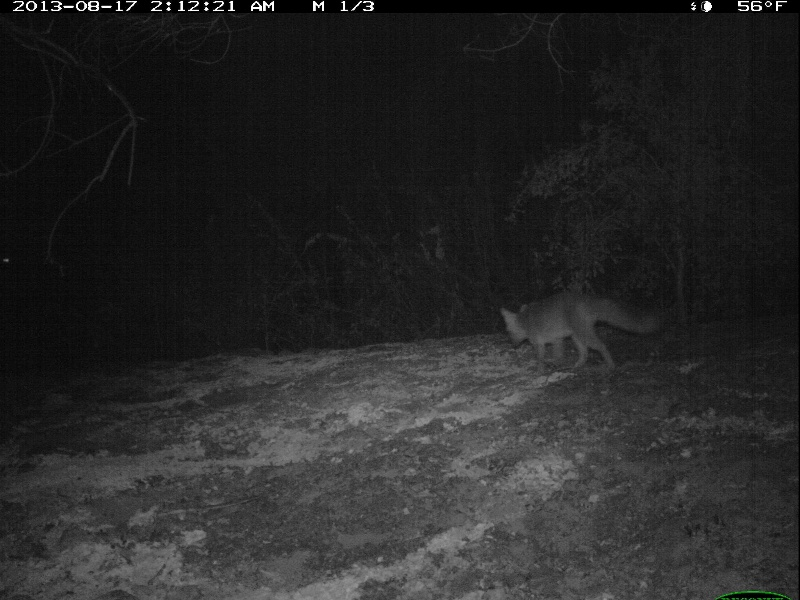fox: (500, 290, 659, 373)
